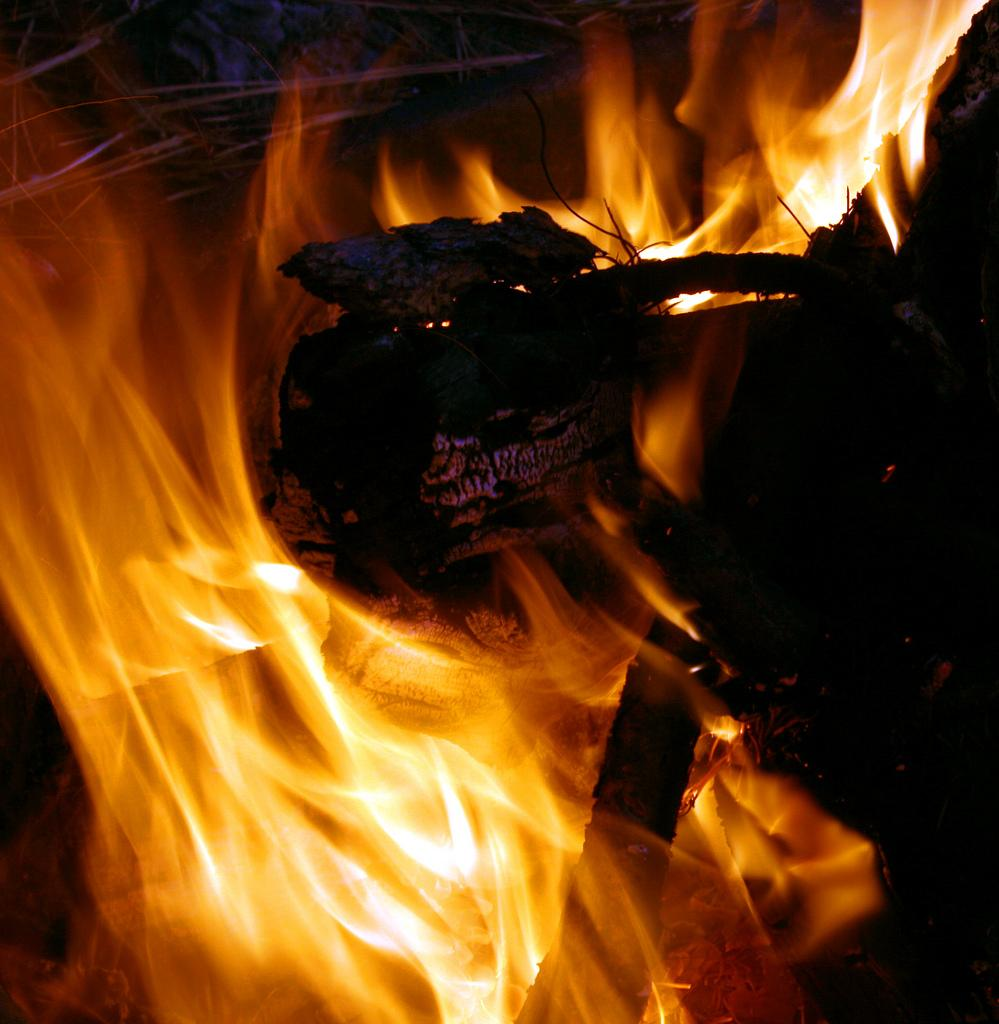fire: (140, 688, 552, 992), (60, 408, 310, 640), (763, 8, 965, 218)
